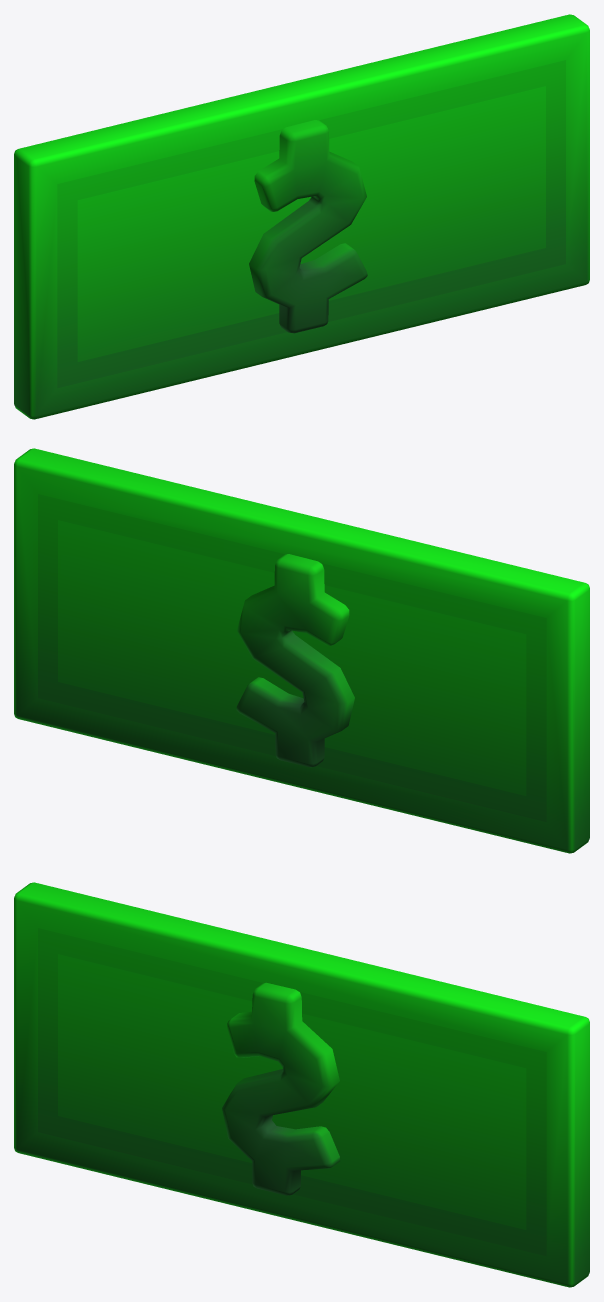
File: SM_dolar_001.fbx
3 renders of one model, top to bottom at view 1: azimuth 30°, elevation 25°; view 2: azimuth 150°, elevation 25°; view 3: azimuth 330°, elevation 25°, orthographic.
Parts seen in each view (by area): view 1: SM_dolar_001; view 2: SM_dolar_001; view 3: SM_dolar_001.
Boxes of the visible parts, x1,y1,x2,y2 form: SM_dolar_001: (14, 14, 589, 419); SM_dolar_001: (14, 448, 589, 853); SM_dolar_001: (14, 882, 589, 1287).
Size of the model in its own units: 95.46 by 42.34 by 11.93.
